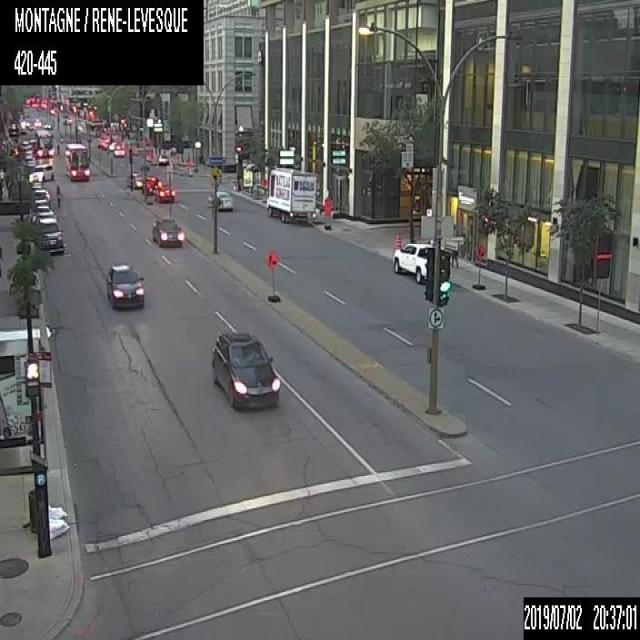bus: (65, 141, 91, 179), (33, 129, 54, 156)
construction: (265, 250, 280, 302), (471, 242, 485, 290), (322, 197, 333, 231), (393, 232, 402, 247)
cyclist: (54, 182, 61, 206), (56, 140, 60, 155)
pedestrian: (449, 244, 458, 266)
vehicle: (206, 328, 279, 405), (264, 164, 316, 223), (390, 238, 449, 282), (106, 260, 144, 308), (151, 213, 183, 246), (36, 216, 64, 253), (206, 188, 232, 211), (154, 181, 176, 203), (28, 162, 54, 180), (31, 205, 53, 223), (126, 170, 142, 188), (145, 175, 160, 193), (31, 198, 50, 210), (30, 180, 46, 194), (32, 188, 50, 199), (157, 151, 169, 166), (23, 150, 35, 163), (19, 140, 31, 152), (113, 142, 125, 154), (61, 113, 73, 124), (76, 120, 84, 133), (43, 121, 51, 128), (33, 118, 40, 125)
